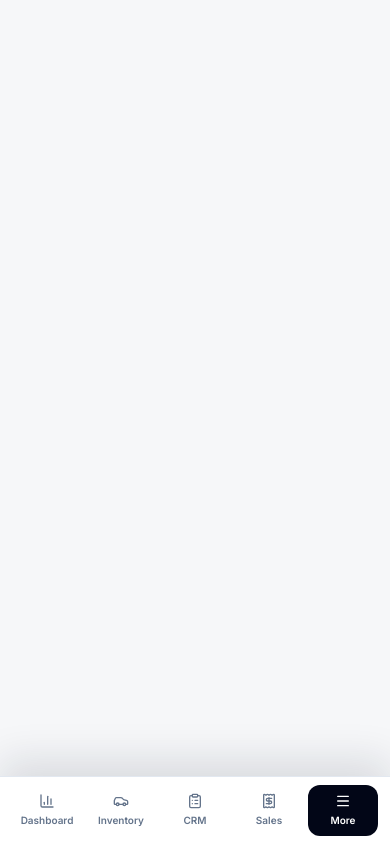
Test: AppMobileNav › keeps secondary modules reachable from a mobile more menu
Expected: the link "service workshop" is not shown
Click the button with aria-label "open module menu" at coordinates (343, 810), box [308,785,378,836]
(page scrolled)
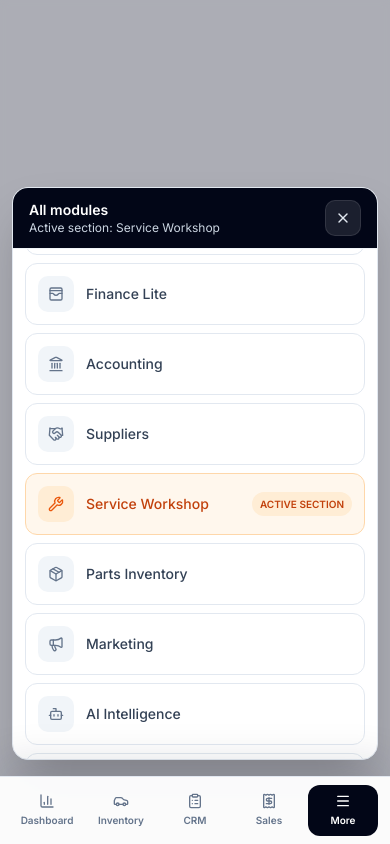
Expected: the dialog "All modules" is shown
Expected: the link "Service Workshop Active section" is shown, [25,473,365,535]
Expected: the link "Parts Inventory" is shown, [25,543,365,605]
